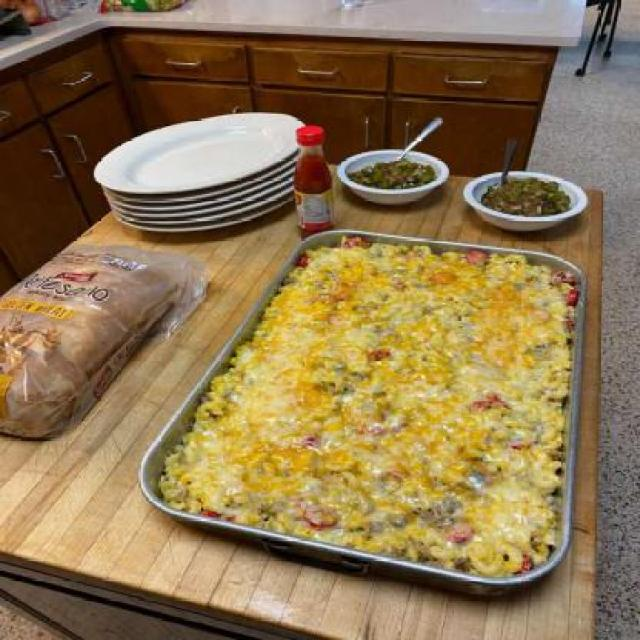hot dog: (558, 280, 580, 337), (302, 504, 340, 525), (462, 245, 488, 268), (335, 231, 367, 249), (442, 523, 470, 540)
macaroni and cheese: (172, 232, 566, 586)
